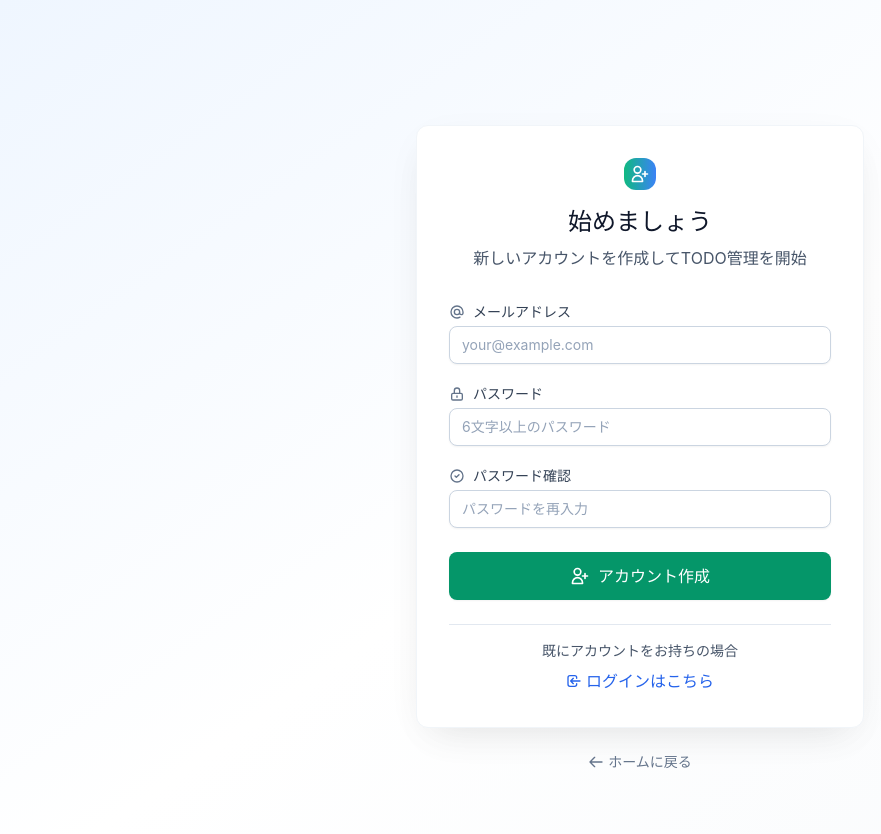
Test case: SignupForm › サインアップ処理 › サインアップ失敗時にエラーメッセージが表示される
Step 1. Type "test@example.com" into the field labelled "メールアドレス" → [640, 344], box [449,326,831,364]
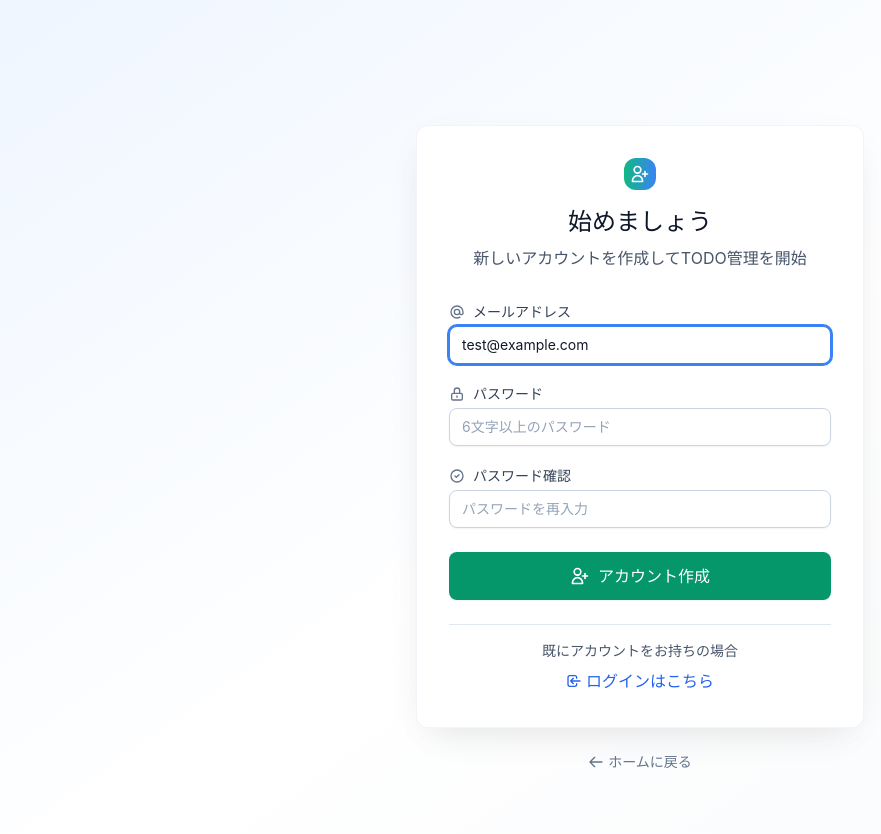
Step 2. Type "password123" into the password field labelled "パスワード" → [640, 426], box [449,408,831,446]
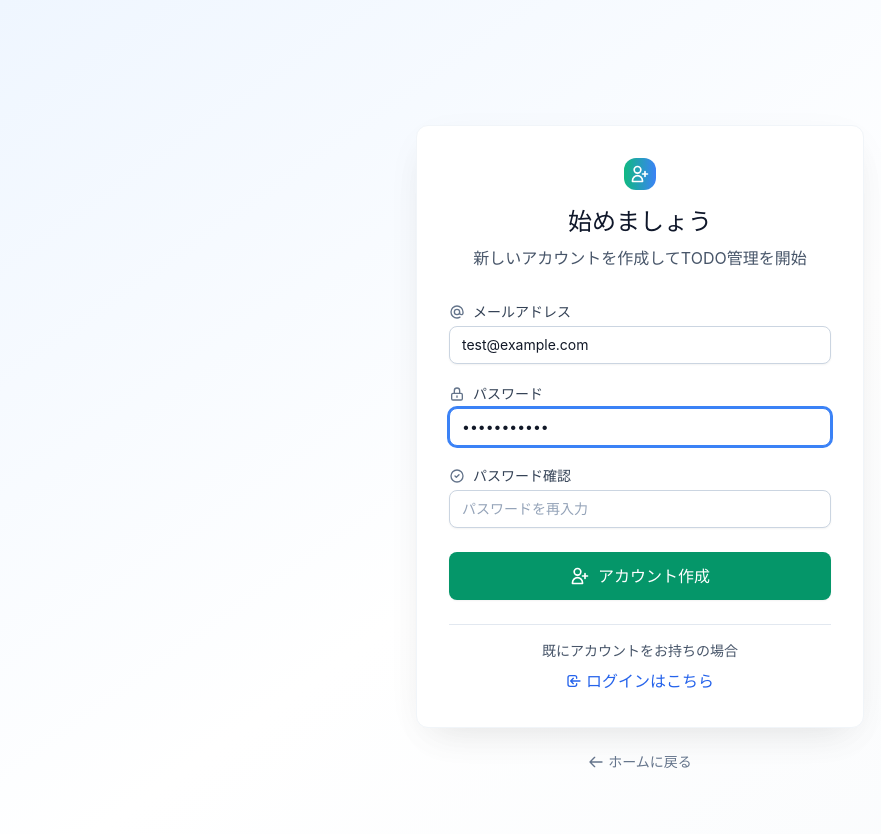
Step 3. Type "password123" into the password field labelled "パスワード確認" → [640, 508], box [449,490,831,528]
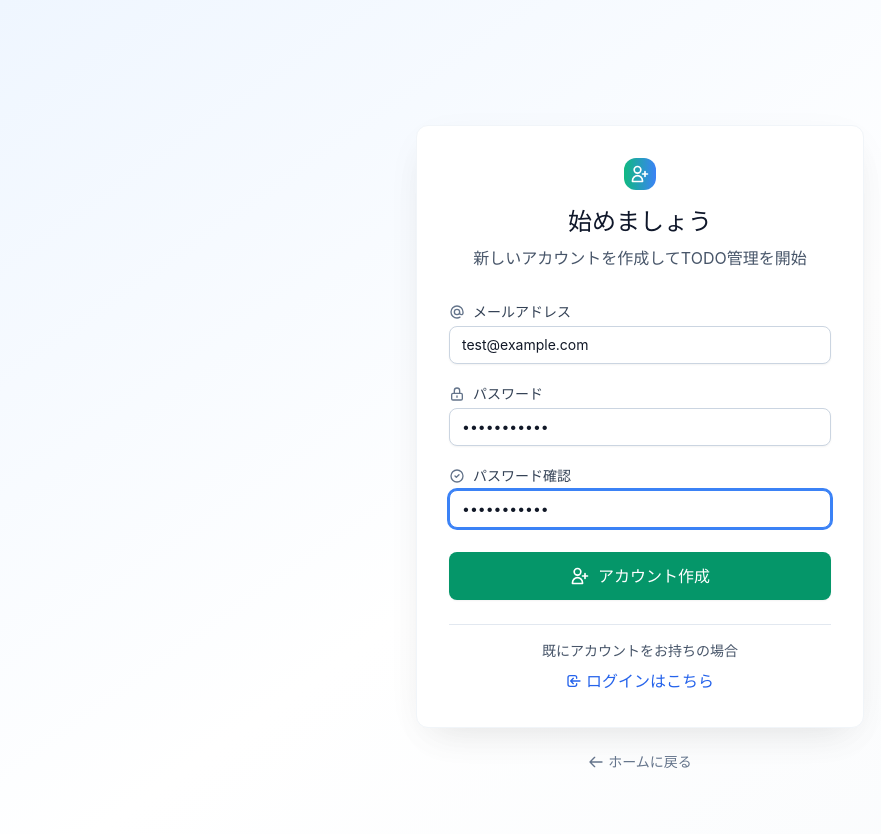
Step 4. Click the button "アカウント作成" → [640, 576], box [449,552,831,600]
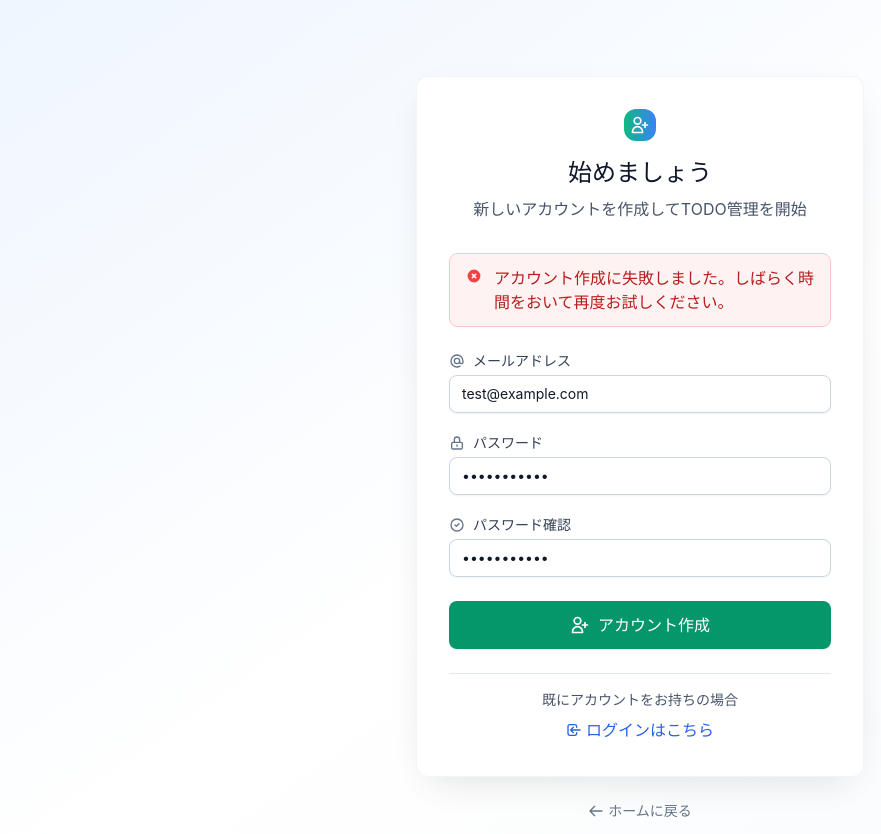
Check: the text "アカウント作成に失敗しました。しばらく時間をおいて再度お試しください。" is shown, box [449,252,831,326]
